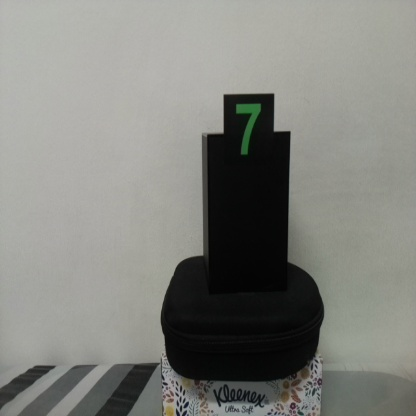id_7: (224, 95, 275, 174)
